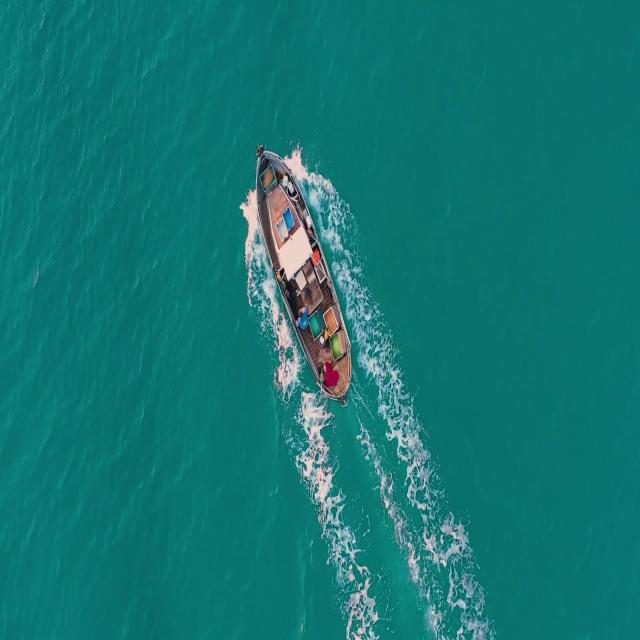ship: (251, 133, 362, 400)
